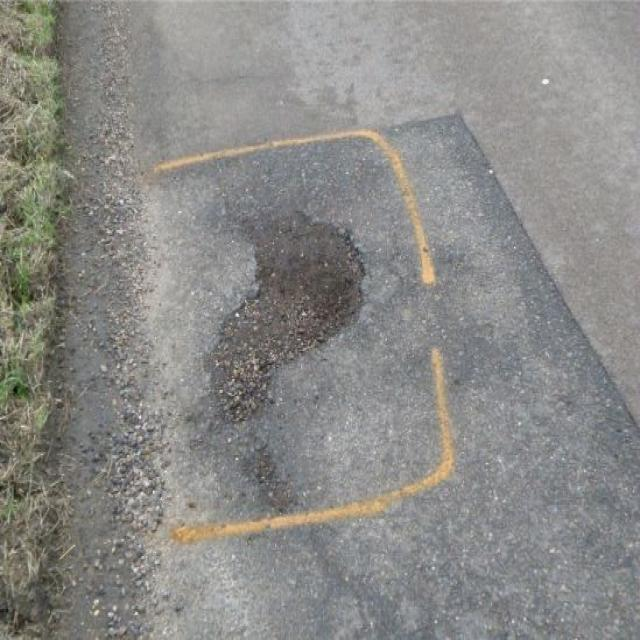pothole: (203, 198, 366, 422)
